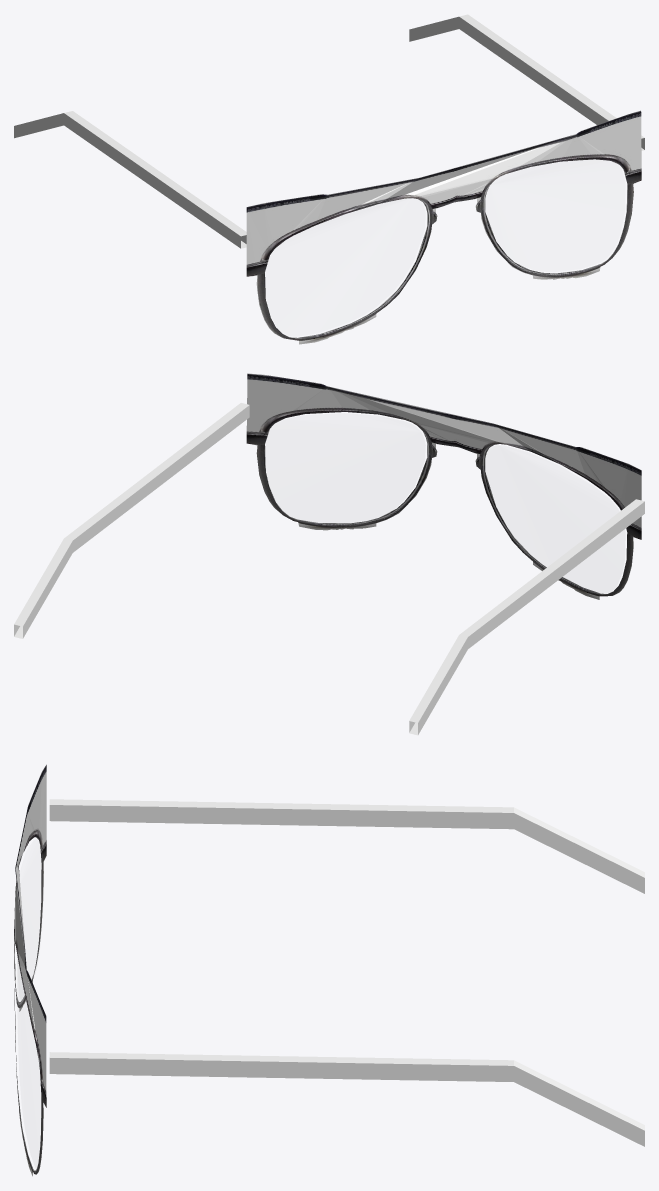
File: gothamstyle-stainless-40_gunmetal.glb
3 renders of one model, top to bottom at view 1: azimuth 30°, elevation 25°; view 2: azimuth 150°, elevation 25°; view 3: azimuth 270°, elevation 25°, orthographic. The views are drawn at different scales.
Visible parts, largest first — view 1: frame_front, temple_viewer_left, temple_viewer_right; view 2: frame_front, temple_viewer_left, temple_viewer_right; view 3: temple_viewer_left, temple_viewer_right, frame_front.
Boxes of the visible parts, box(x1,y1,x2,y2) form: frame_front: box(246, 110, 641, 344); temple_viewer_left: box(14, 111, 246, 248); temple_viewer_right: box(409, 14, 644, 150); frame_front: box(246, 373, 641, 599); temple_viewer_left: box(409, 499, 644, 735); temple_viewer_right: box(14, 403, 249, 638); temple_viewer_left: box(49, 799, 644, 893); temple_viewer_right: box(49, 1052, 644, 1146); frame_front: box(14, 764, 46, 1176).
Bounding box in the file's own units: 0.1367 × 0.0476 × 0.141.
3 materials, 2 textured.
